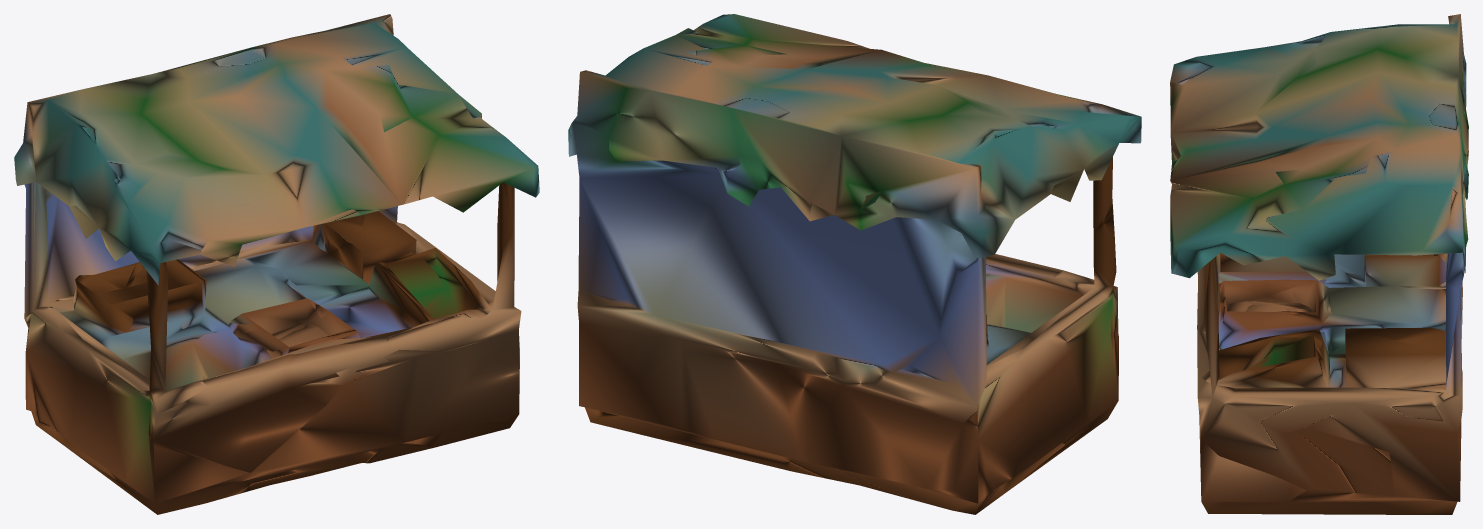
The model's file is gen3d-market-stall-shop-lod1.glb.
The picture shows the model from 3 angles, left to right: view 1: azimuth 30°, elevation 25°; view 2: azimuth 150°, elevation 25°; view 3: azimuth 270°, elevation 25°; orthographic projection. The views are drawn at different scales.
Parts seen in each view (by area): view 1: part_0; view 2: part_0; view 3: part_0.
Boxes of the visible parts, left/top/right/bottom form: part_0: left=14, top=14, right=539, bottom=514; part_0: left=568, top=14, right=1141, bottom=514; part_0: left=1170, top=14, right=1468, bottom=514.
Bounding box in the file's own units: 1.26 × 0.9999 × 0.8298.
